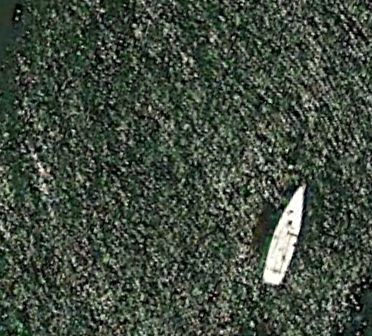boat: (260, 183, 307, 286)
